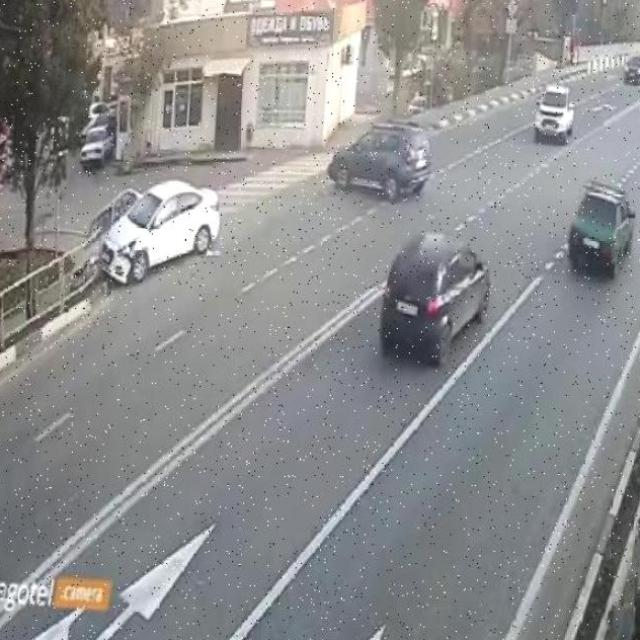accident: (74, 187, 156, 285)
